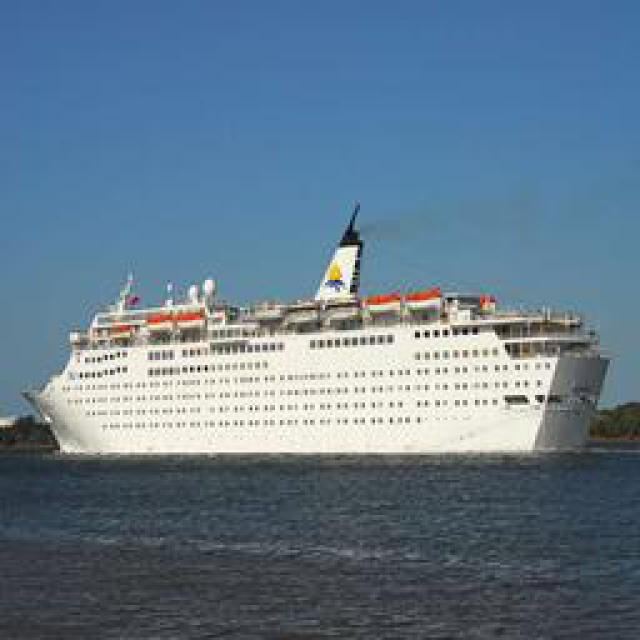Ship: (28, 222, 616, 455)
